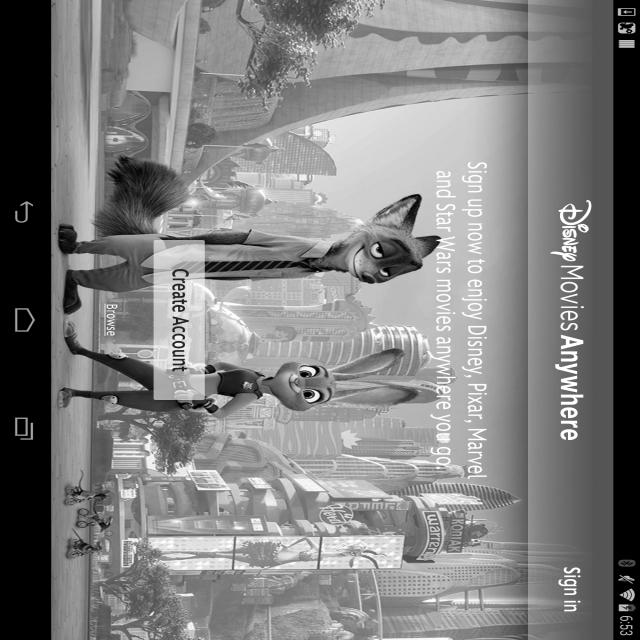Button: (151, 236, 210, 400)
ImageButton: (522, 562, 620, 616), (100, 300, 121, 340)
ImageView: (220, 1, 422, 638), (57, 402, 212, 634), (56, 0, 215, 226), (430, 1, 526, 151), (429, 486, 508, 639)
TextView: (429, 158, 492, 481), (546, 195, 596, 445)
